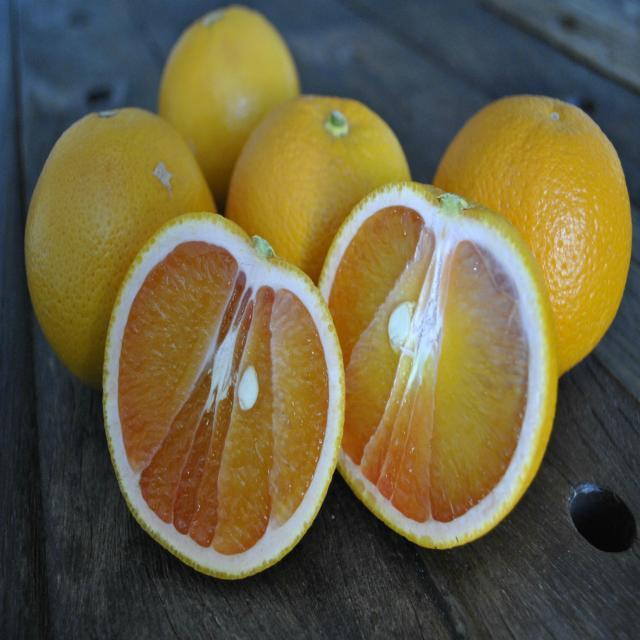Orange: (104, 210, 346, 580), (318, 185, 558, 545), (432, 95, 634, 378), (23, 106, 217, 386), (229, 96, 414, 286), (158, 8, 300, 206)
